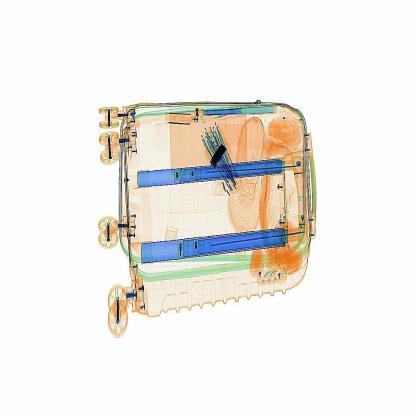scissors: (209, 136, 238, 171)
